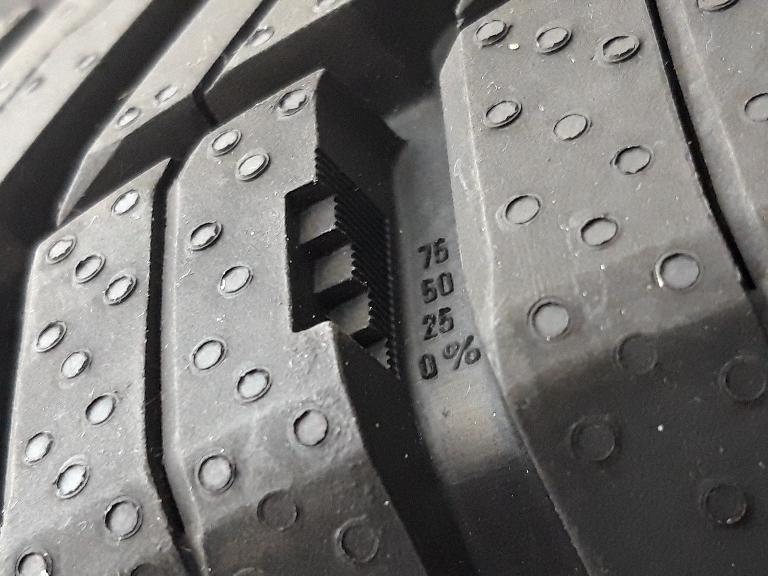temoin:100: (274, 138, 412, 392)
